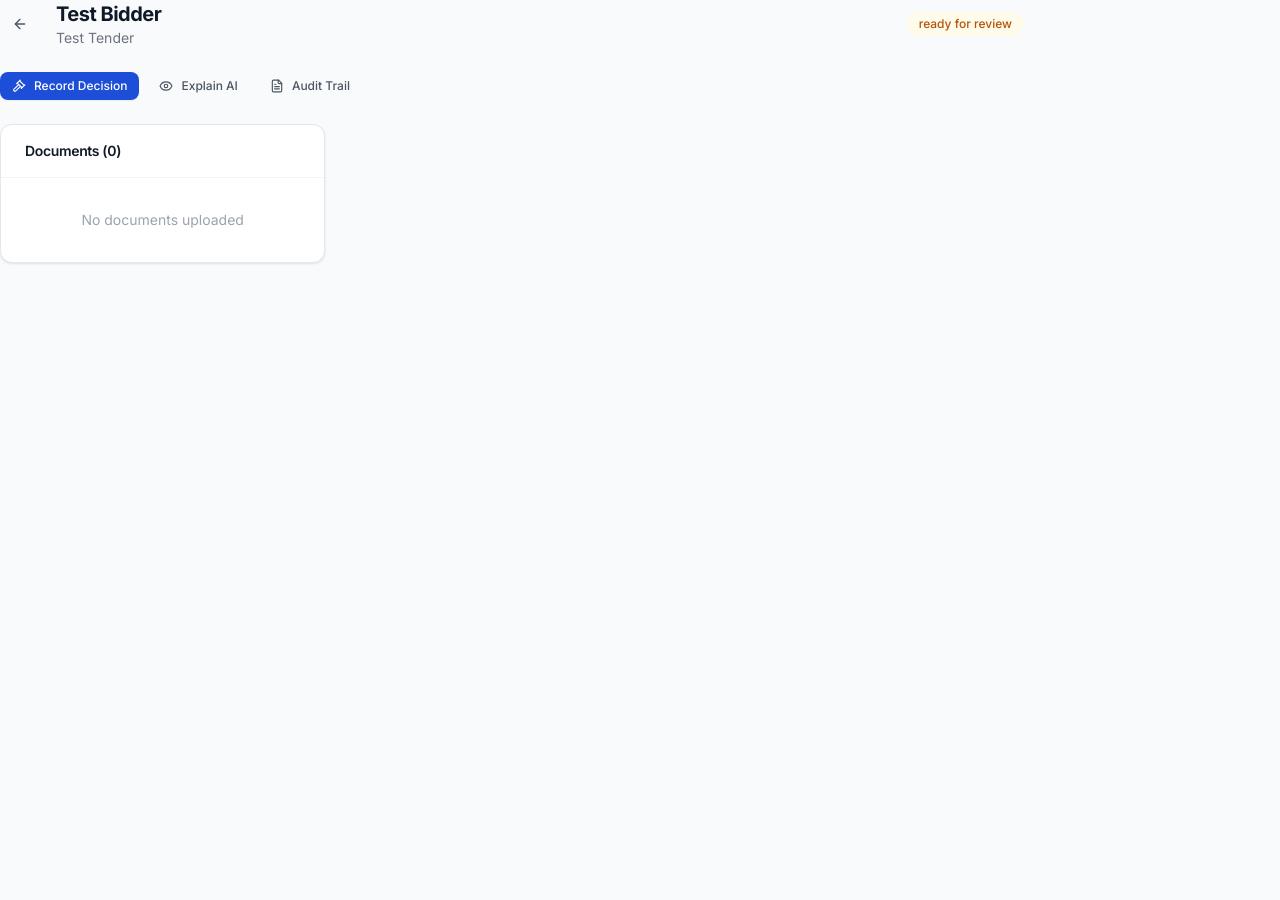
CaseDetailPage › can open record decision modal
The image size is (1280, 900).
Click the button "Record Decision": (70, 86) top-left (0, 72), bottom-right (140, 100)
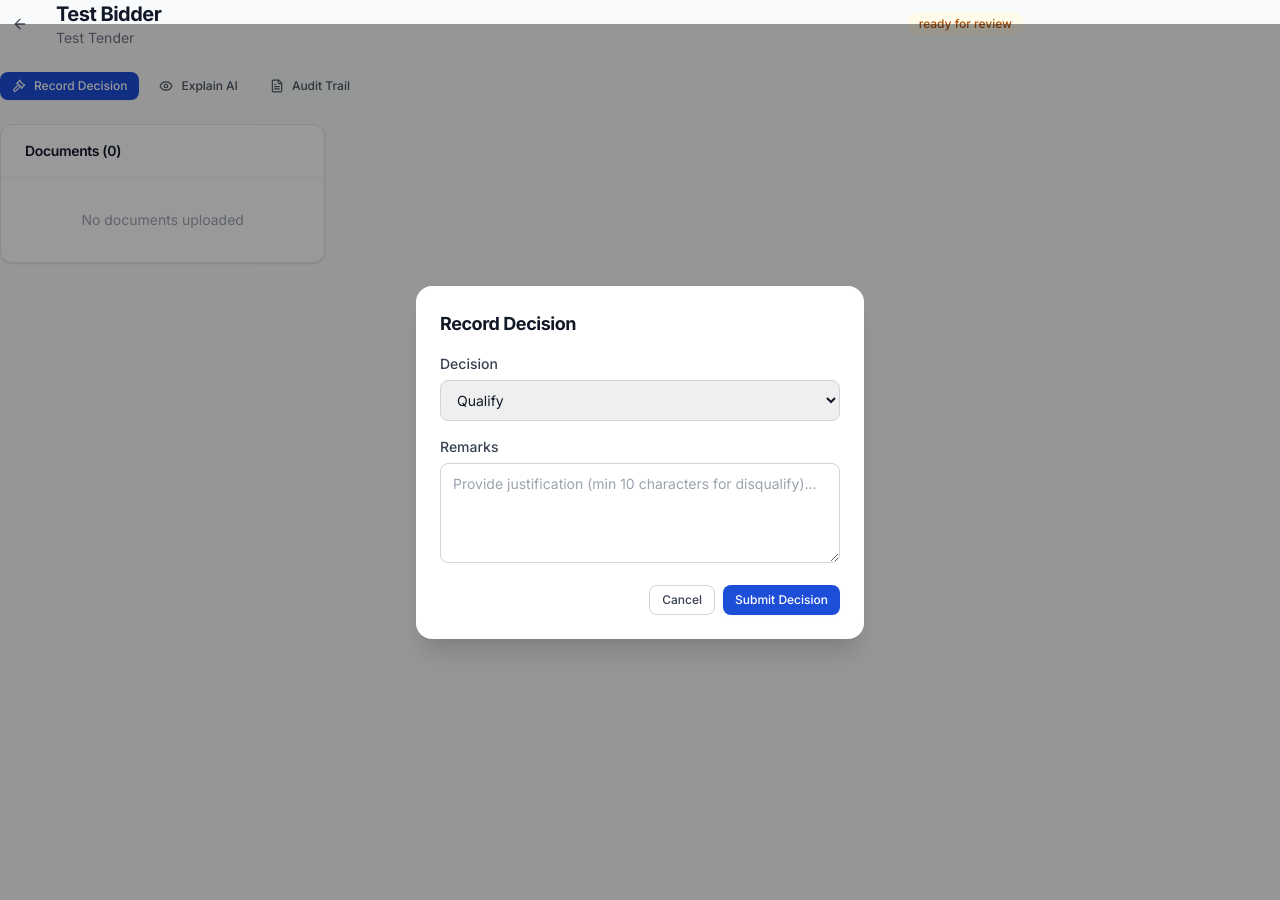
Now the button "Submit Decision" is shown, box top-left (723, 584), bottom-right (840, 614)
